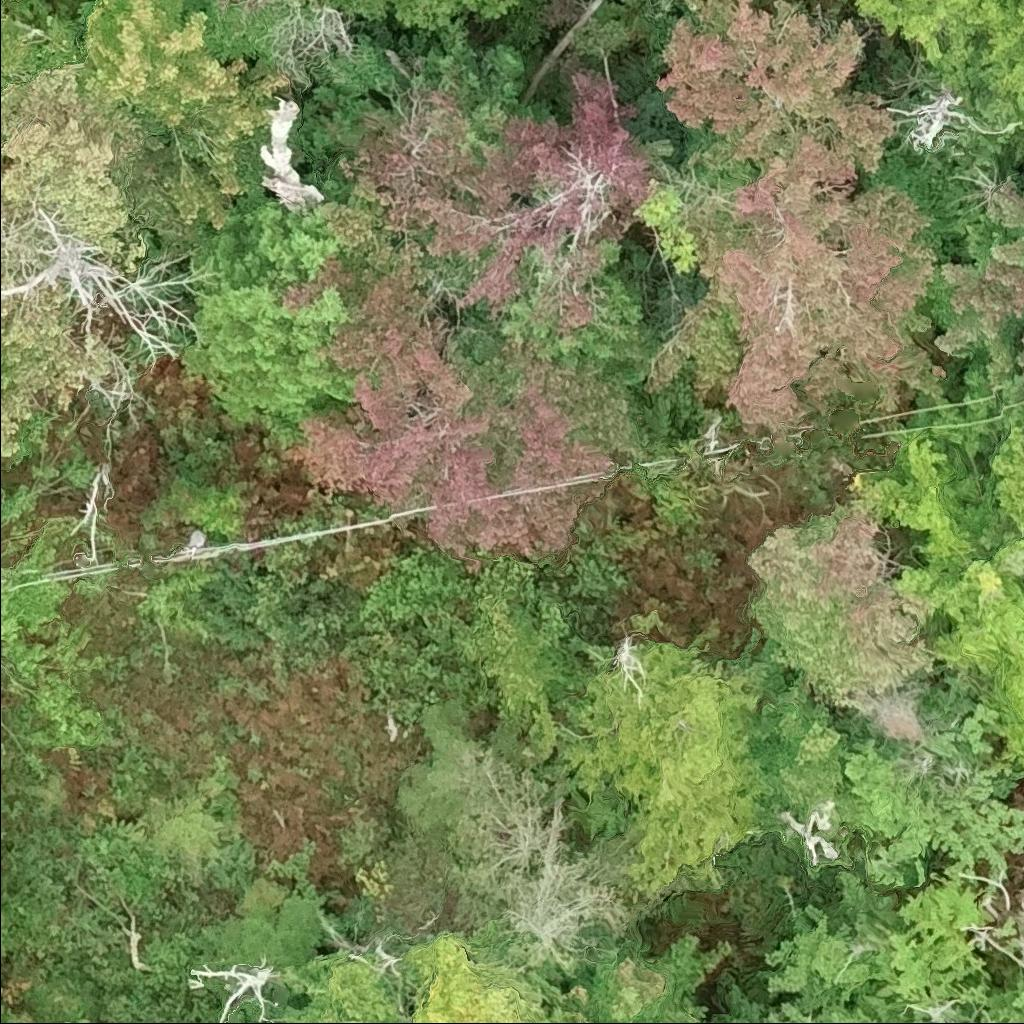crown: (281, 67, 661, 565), (647, 0, 951, 433), (0, 0, 292, 247), (851, 423, 1023, 771), (755, 503, 930, 707), (0, 63, 152, 275), (922, 186, 1023, 404), (0, 282, 104, 464), (567, 927, 734, 1023), (403, 937, 572, 1023), (840, 0, 1023, 65), (926, 17, 1023, 125), (184, 0, 300, 67), (389, 0, 523, 32), (0, 250, 25, 280), (0, 931, 10, 959), (0, 985, 7, 1023)
